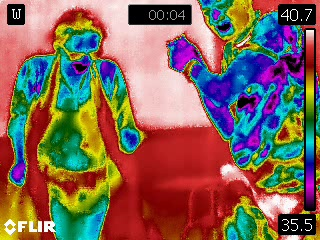human: (167, 1, 320, 240), (6, 8, 148, 240)
